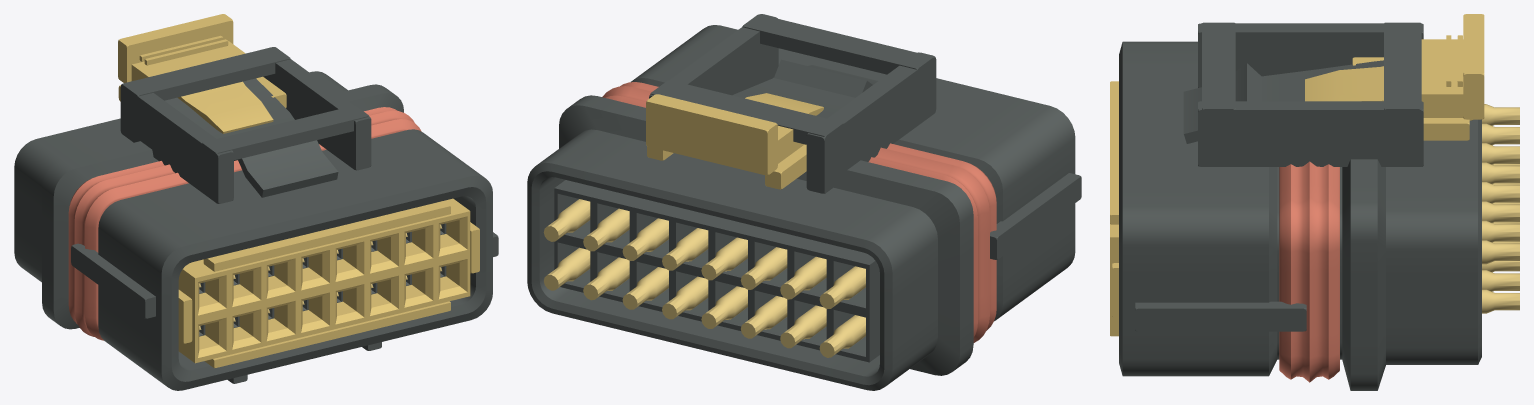
The model's file is connector-housings.glb.
3 views of the same model, side by side, from view 1: azimuth 30°, elevation 25°; view 2: azimuth 150°, elevation 25°; view 3: azimuth 270°, elevation 25° (orthographic). The views are drawn at different scales.
Visible parts, largest first — view 1: Housing_Body, TPA_Retainer, CPA_Lock, Perimeter_Seal; view 2: Housing_Body, Terminal_Pins, CPA_Lock, Perimeter_Seal; view 3: Housing_Body, Perimeter_Seal, CPA_Lock, Terminal_Pins, TPA_Retainer.
Boxes of the visible parts, x1,y1,x2,y2 form: Housing_Body: [14, 47, 498, 390]; TPA_Retainer: [178, 198, 479, 368]; CPA_Lock: [118, 14, 286, 133]; Perimeter_Seal: [68, 107, 421, 340]; Housing_Body: [527, 14, 1081, 390]; Terminal_Pins: [543, 199, 865, 357]; CPA_Lock: [646, 93, 823, 189]; Perimeter_Seal: [602, 82, 996, 342]; Housing_Body: [1119, 22, 1481, 390]; Perimeter_Seal: [1279, 161, 1339, 382]; CPA_Lock: [1305, 14, 1484, 140]; Terminal_Pins: [1482, 104, 1519, 313]; TPA_Retainer: [1110, 81, 1118, 336].
Bounding box in the file's own units: 2.4 × 1.47 × 2.08.
